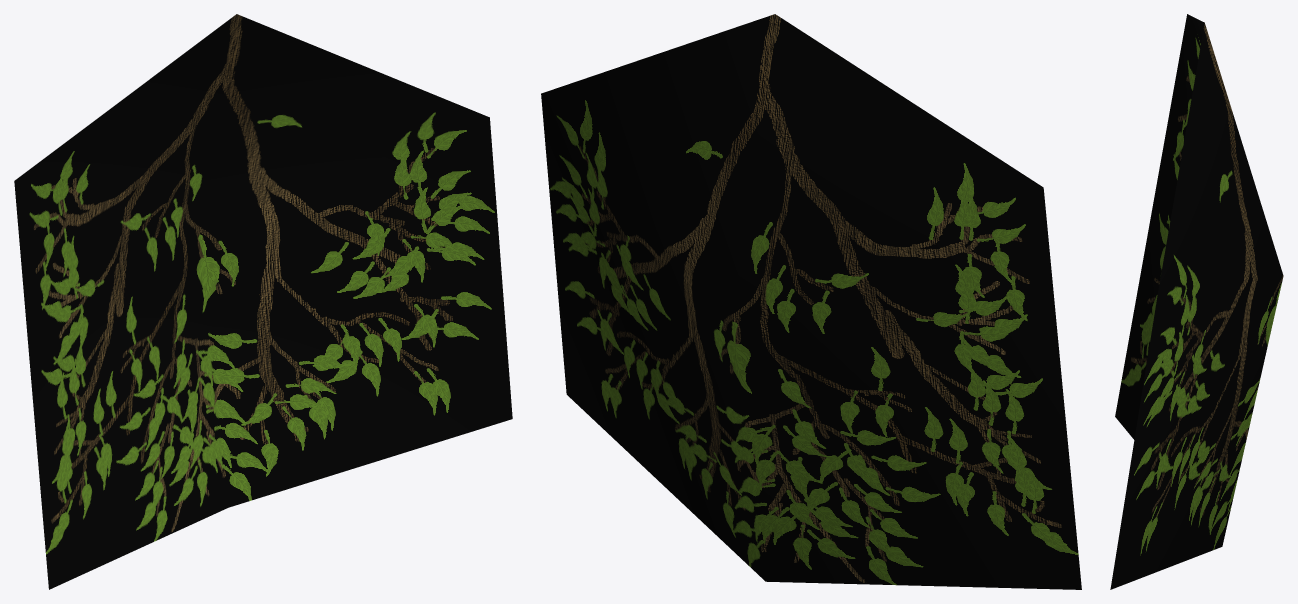
Rendered from LeafMesh2.fbx.
3 views of the same model, side by side, from view 1: azimuth 30°, elevation 25°; view 2: azimuth 150°, elevation 25°; view 3: azimuth 270°, elevation 25° (orthographic). The views are drawn at different scales.
Parts seen in each view (by area): view 1: LeafMesh1; view 2: LeafMesh1; view 3: LeafMesh1.
Part boxes in pixels (x1,y1,x2,y2): LeafMesh1: (14, 14, 512, 589); LeafMesh1: (541, 14, 1081, 589); LeafMesh1: (1110, 14, 1283, 589).
Size of the model in its own units: 2 by 2.07 by 0.6195.
